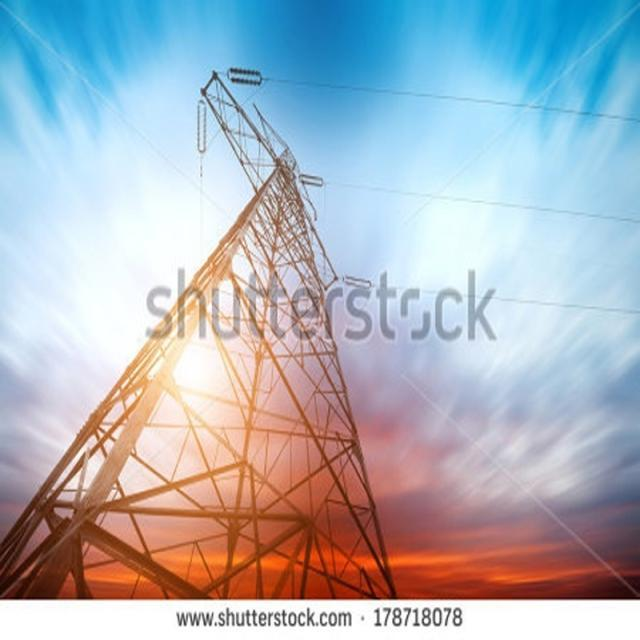non-critical vegetation: (21, 45, 403, 603)
